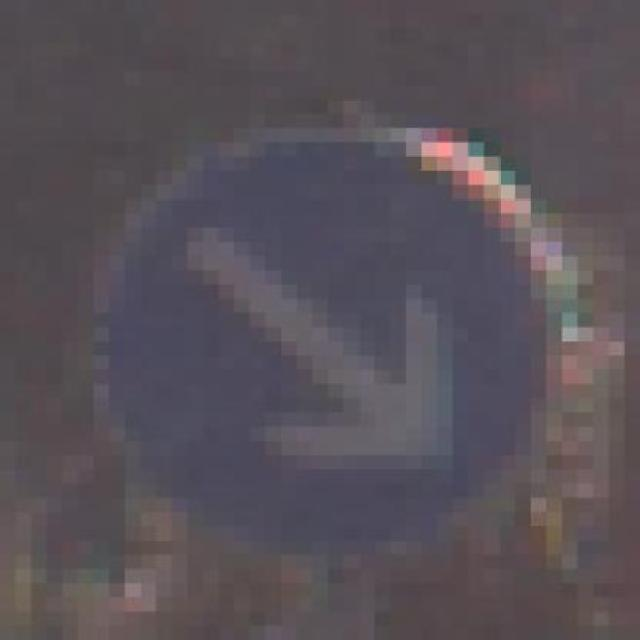Keep-Right: (46, 99, 609, 598)
